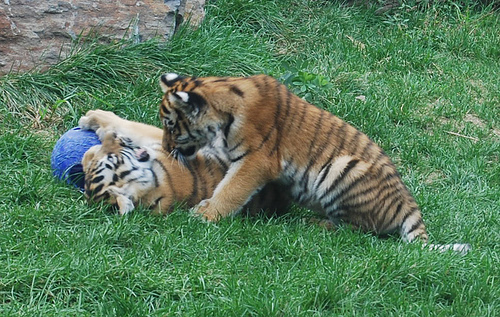Tigre: (173, 68, 400, 230), (77, 108, 168, 223)
